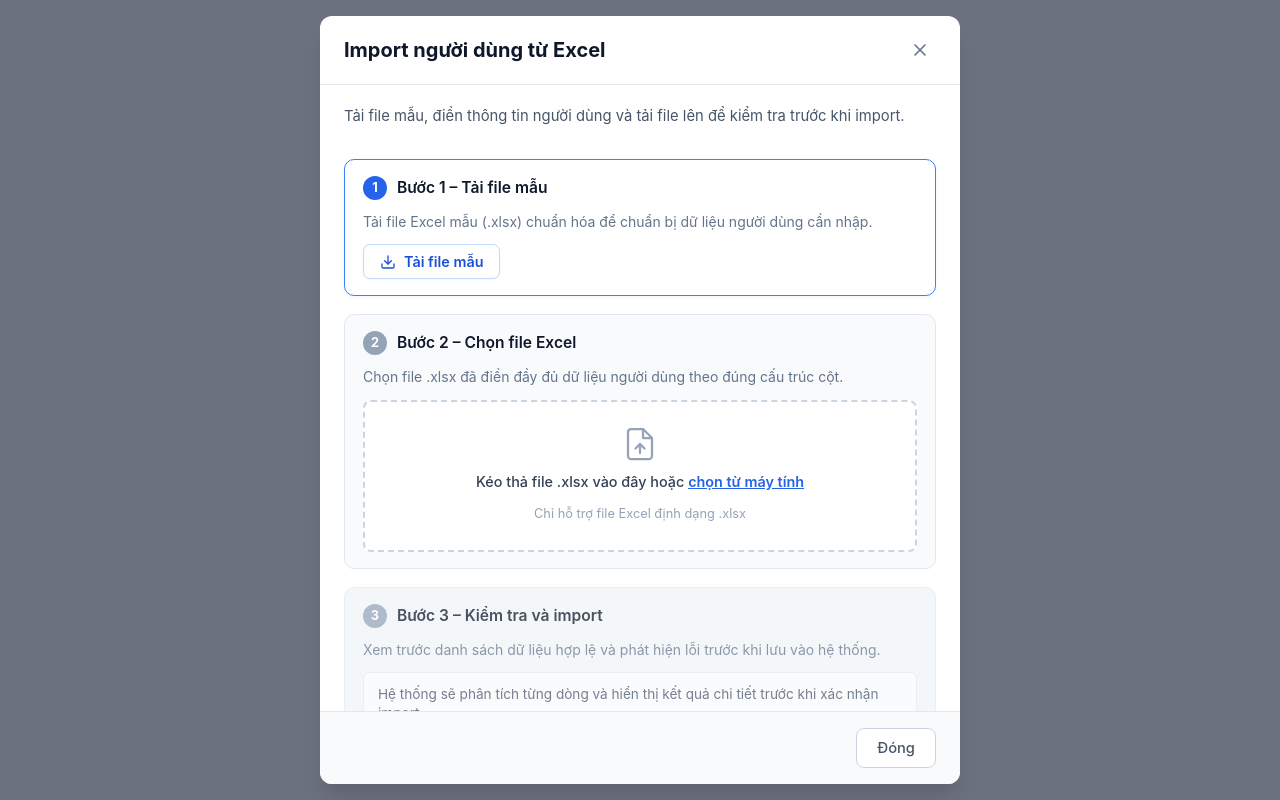
it: SCRUM-119: Activity A6.1 - Bulk User Import Modal & Entry Point › 4. Click "Tải file mẫu" gọi đúng GET /api/users/import/template và tải file user_import_template.xlsx
Click the button with test id "btn-download-template" at (432, 262), box top-left (363, 244), bottom-right (500, 280)
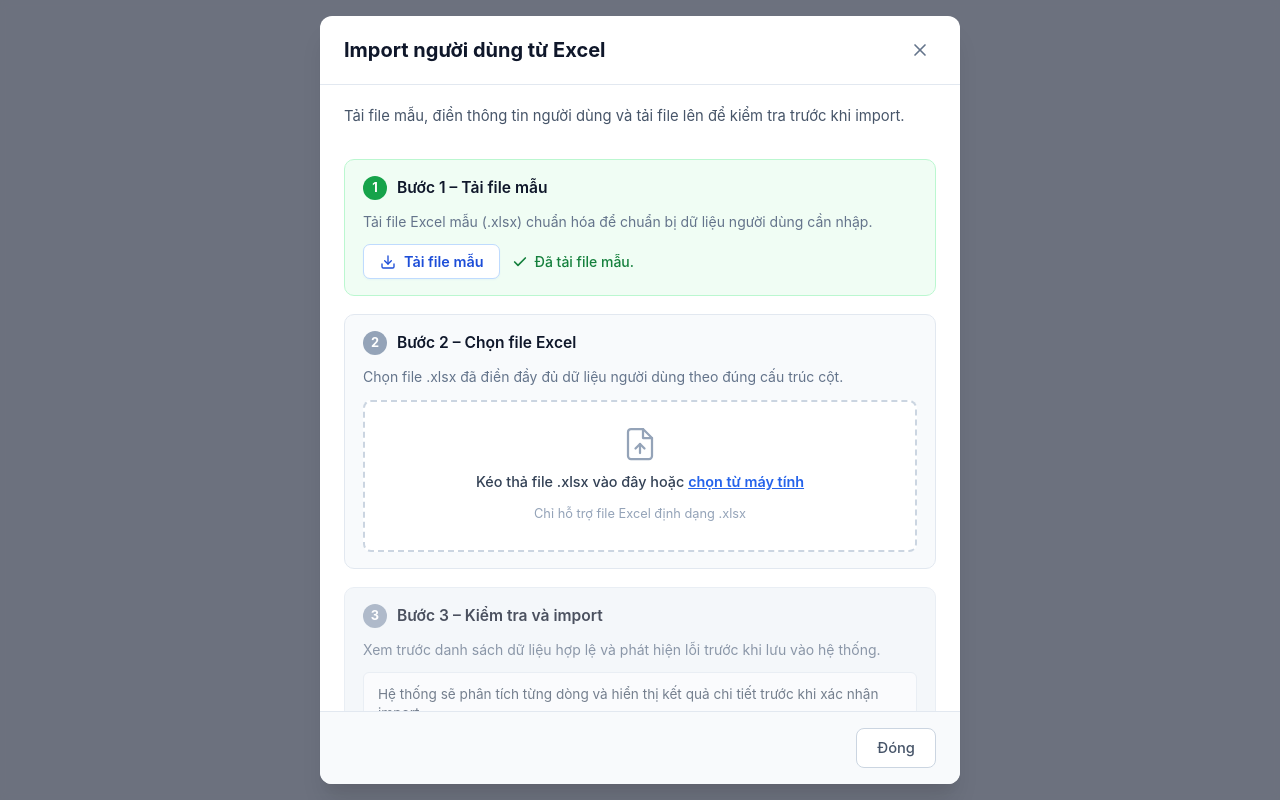
Now the element with test id "download-success-msg" reads "Đã tải file mẫu.", box top-left (534, 253), bottom-right (634, 270)
